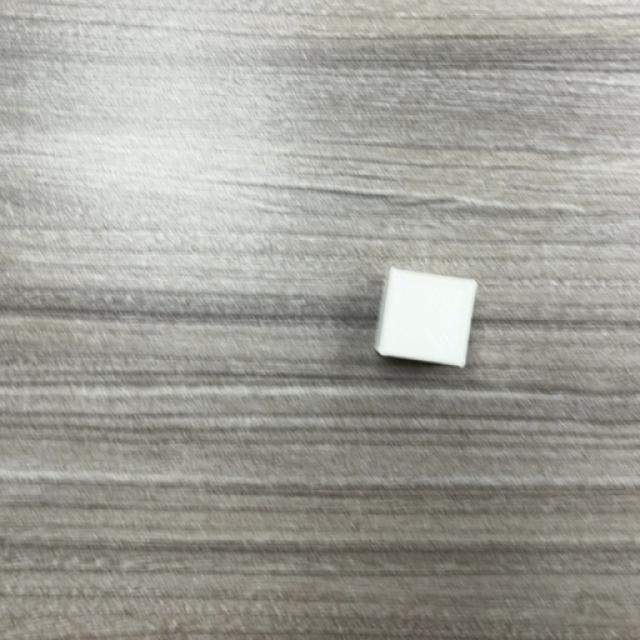Blanco: (374, 268, 478, 369)
